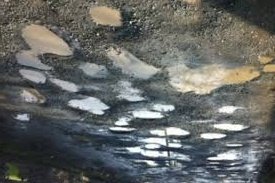pothole: (163, 56, 271, 94), (3, 20, 72, 72), (105, 45, 161, 81), (81, 3, 126, 30), (126, 145, 192, 162), (64, 93, 111, 114), (112, 79, 148, 102), (14, 85, 45, 108), (14, 66, 45, 87), (147, 126, 195, 139), (76, 62, 112, 79), (137, 136, 181, 149), (47, 74, 78, 91), (203, 149, 242, 162), (9, 104, 31, 123), (104, 123, 138, 134), (209, 122, 250, 131), (146, 100, 177, 111), (130, 109, 167, 118), (161, 159, 184, 172), (129, 159, 160, 168), (201, 132, 229, 141), (225, 164, 259, 171), (111, 115, 134, 124), (215, 106, 240, 113), (203, 161, 220, 170), (112, 144, 129, 153), (224, 142, 244, 147)
